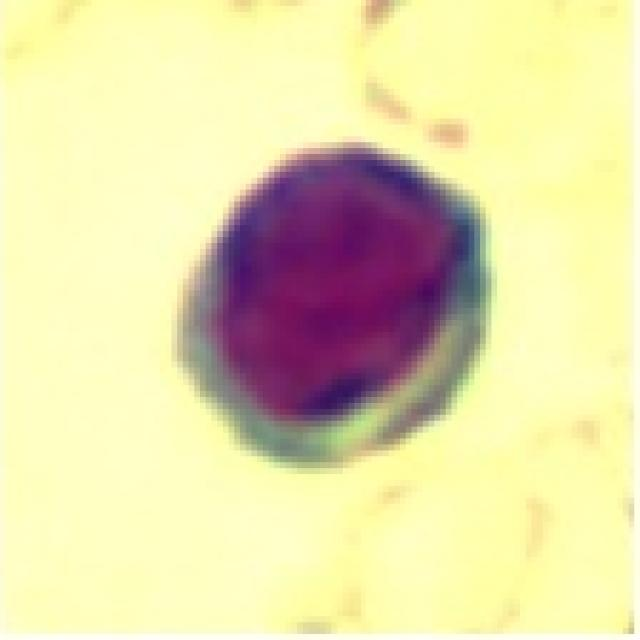WBC: (172, 118, 514, 498)
